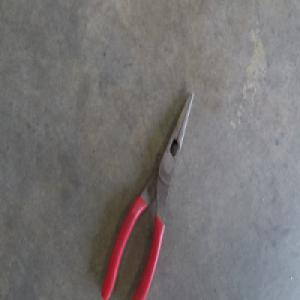Pliers: (103, 93, 194, 298)
